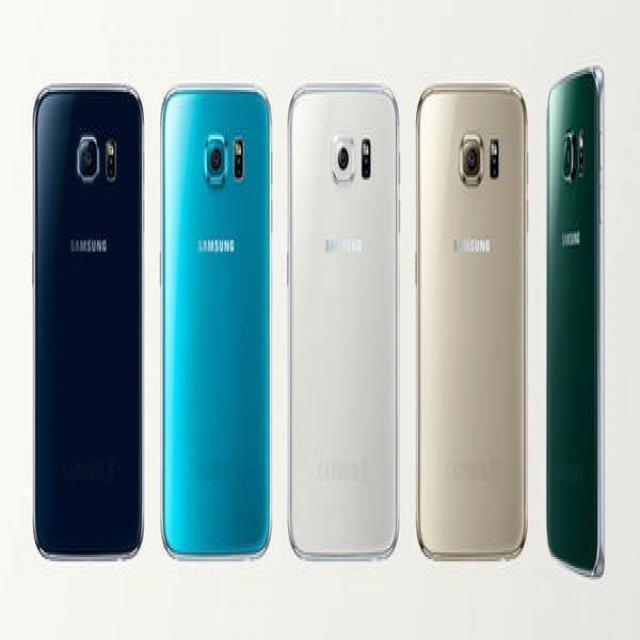phone: (286, 83, 408, 568), (27, 80, 149, 562), (160, 76, 276, 566), (416, 70, 530, 566), (542, 65, 608, 584)
